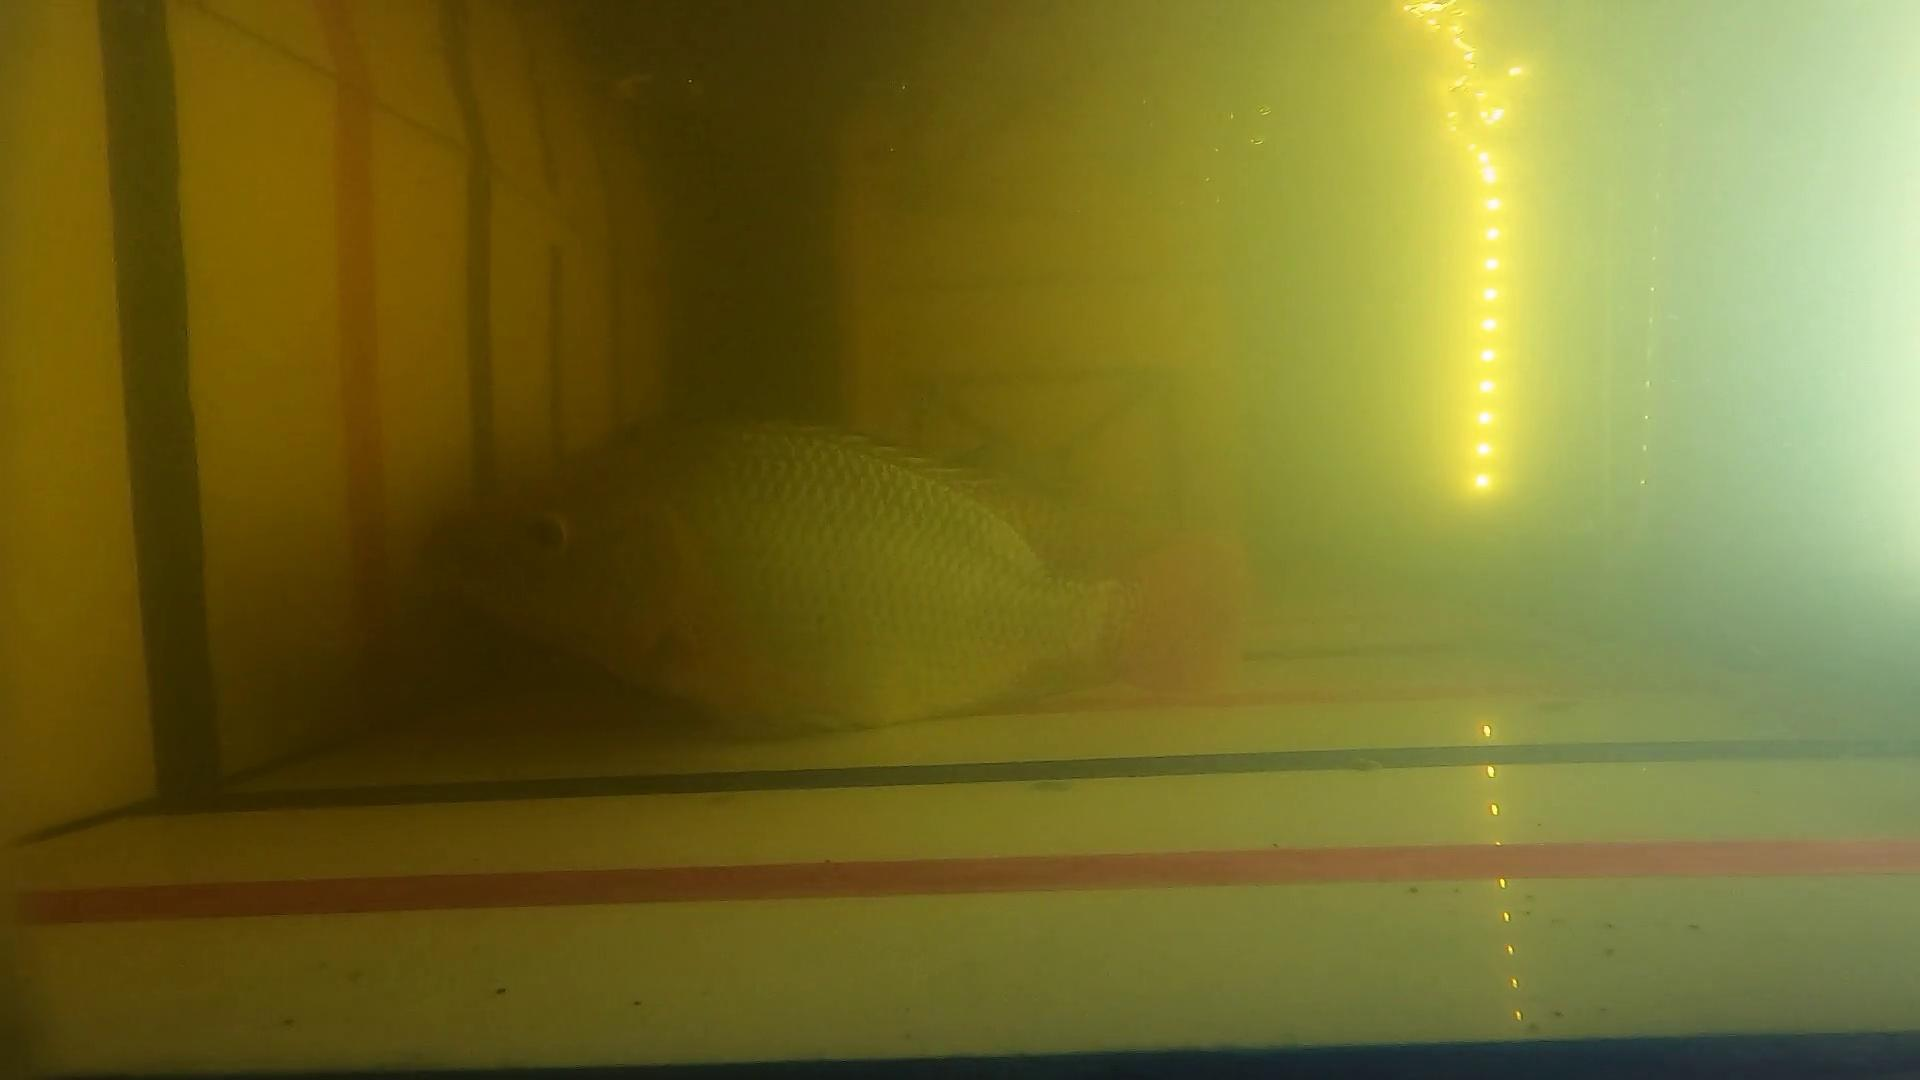Tilapia: (451, 418, 1131, 731)
